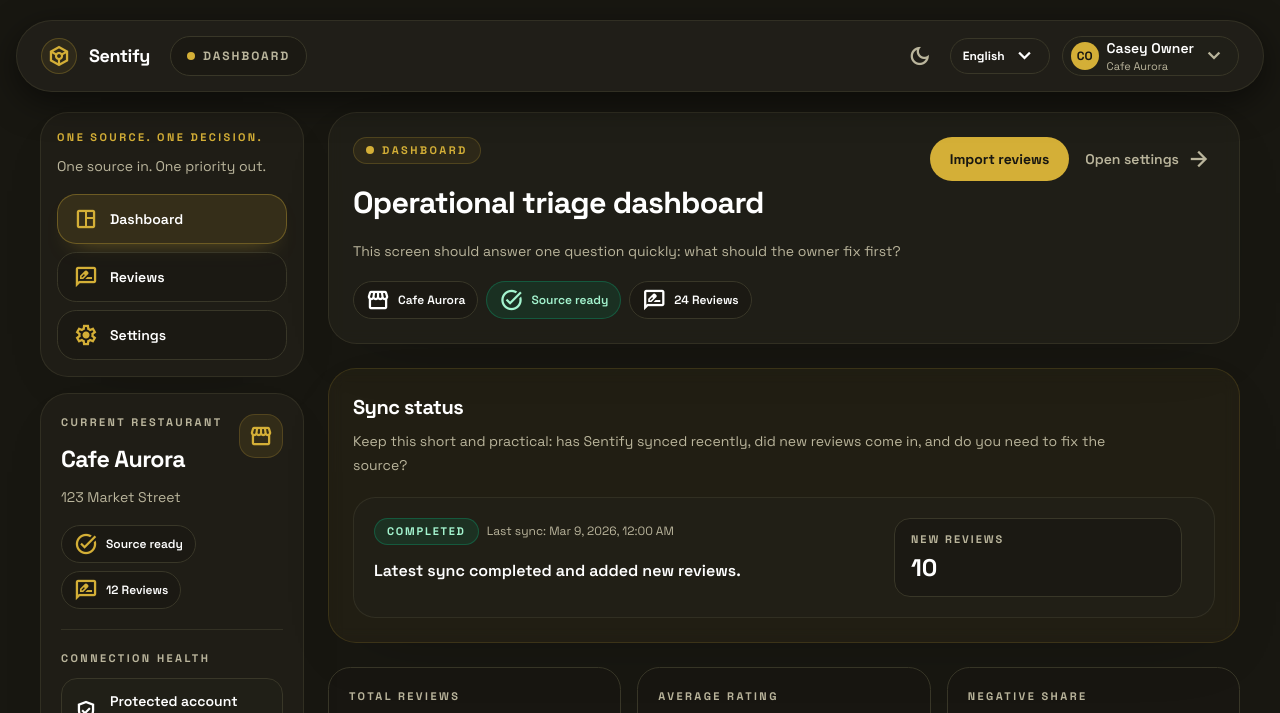
Test case: Sentify app shell › switches language cleanly across English, Vietnamese, and Japanese
The image size is (1280, 713).
Expected: the heading "Operational triage dashboard" is shown, [353,182,764,222]
Click the button with aria-label "switch language". click: (1000, 56)
box: [950,38,1050,74]
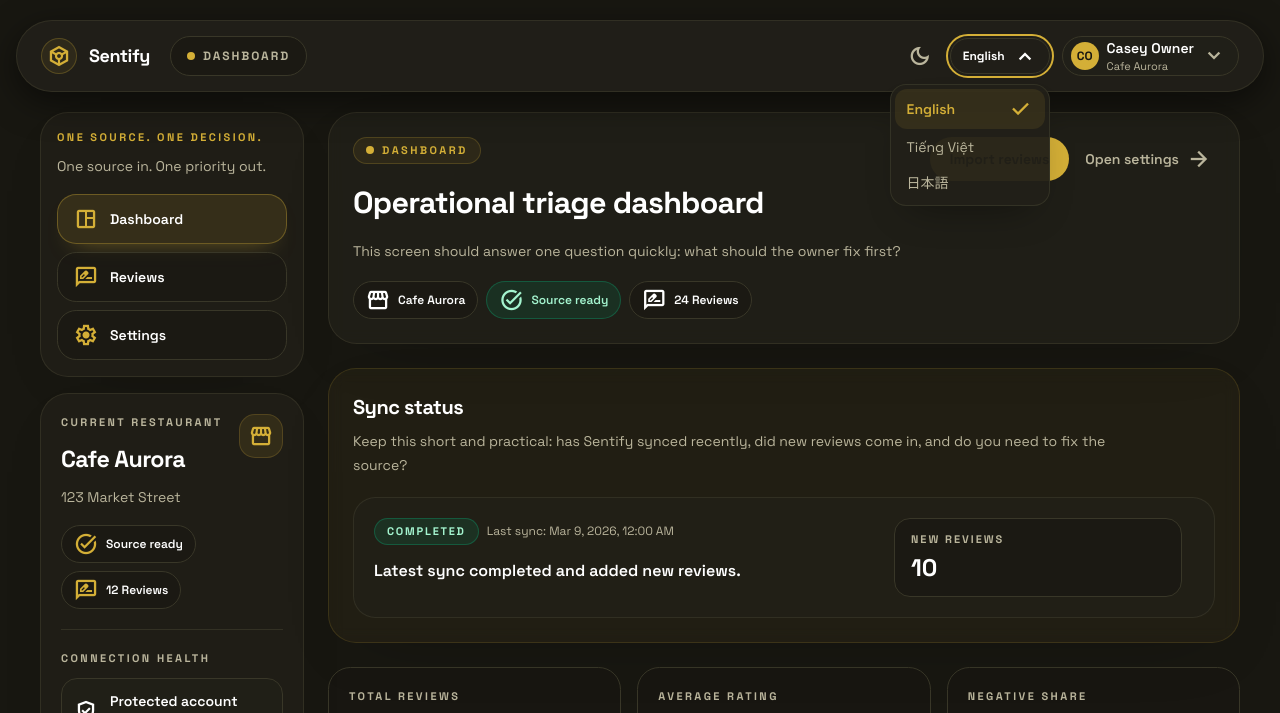
Click the menu item "Tiếng Việt". click: (970, 147)
box: [895,129,1045,165]
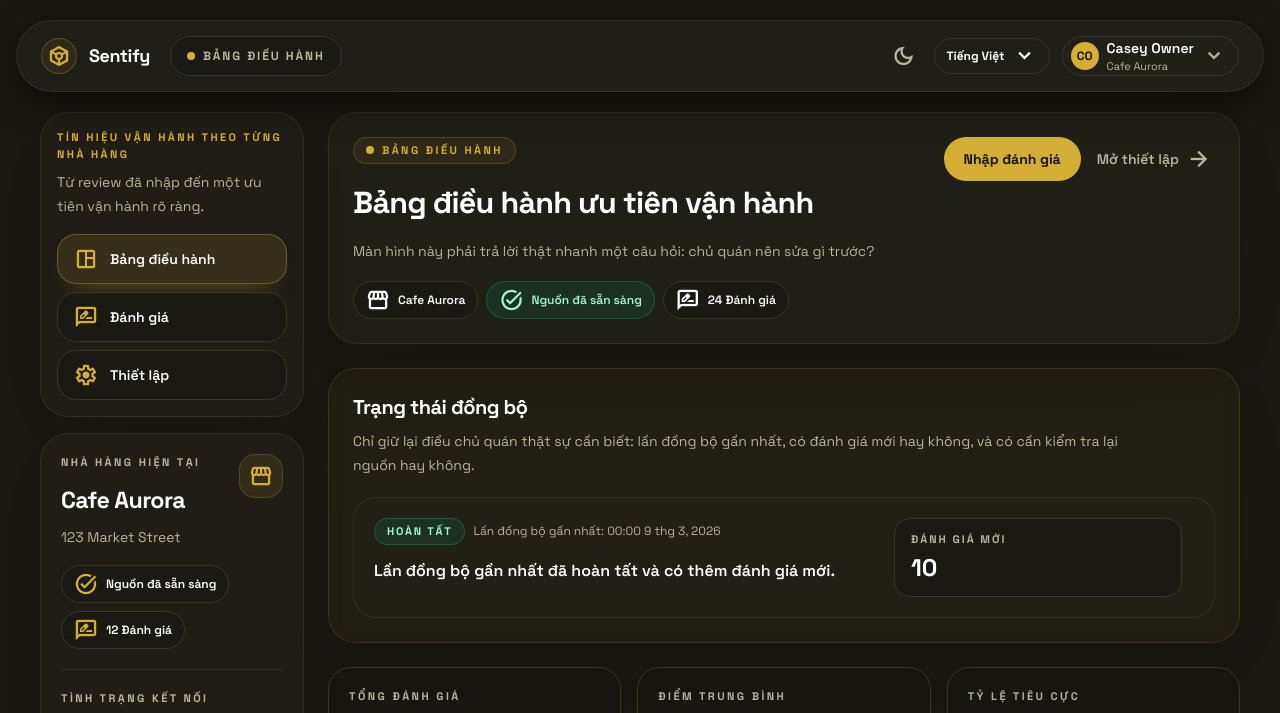
Expected: the heading "Bảng điều hành ưu tiên vận hành" is shown, [353,180,874,225]
Click the button with aria-label "đổi ngôn ngữ". click: (992, 56)
box: [934,38,1050,74]
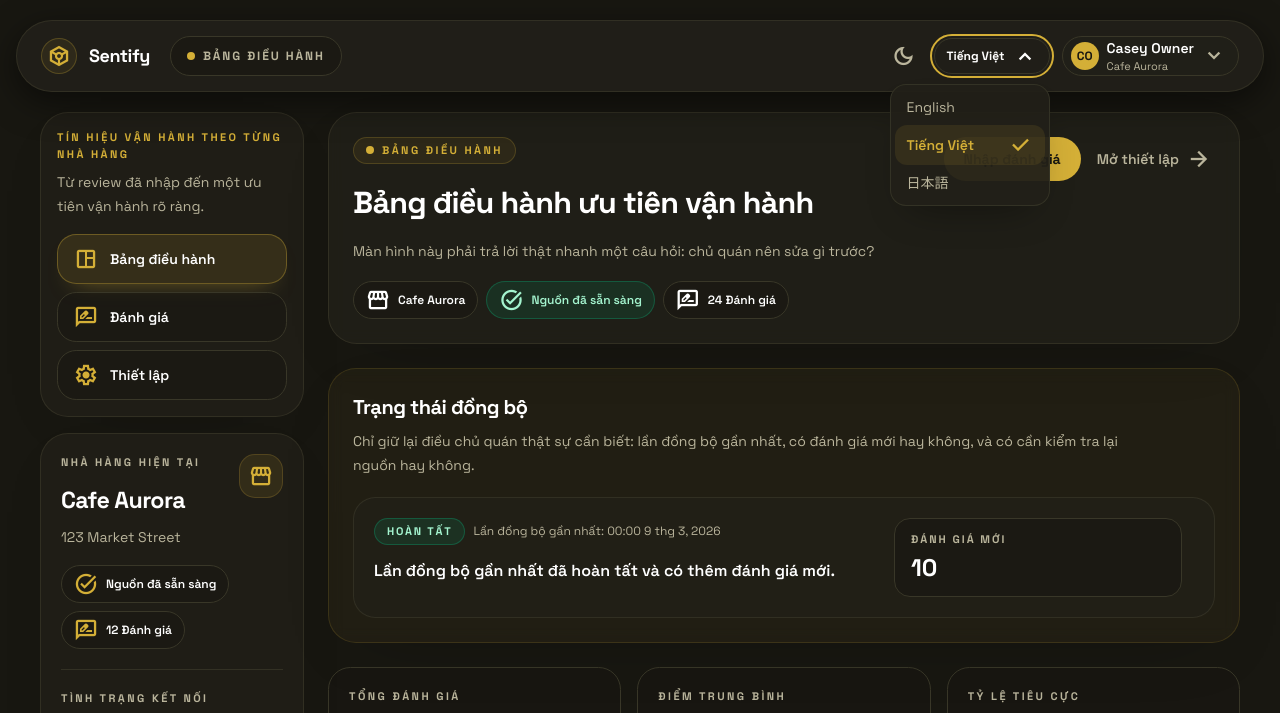
Click the menu item "日本語". click: (970, 183)
box: [895,165,1045,201]
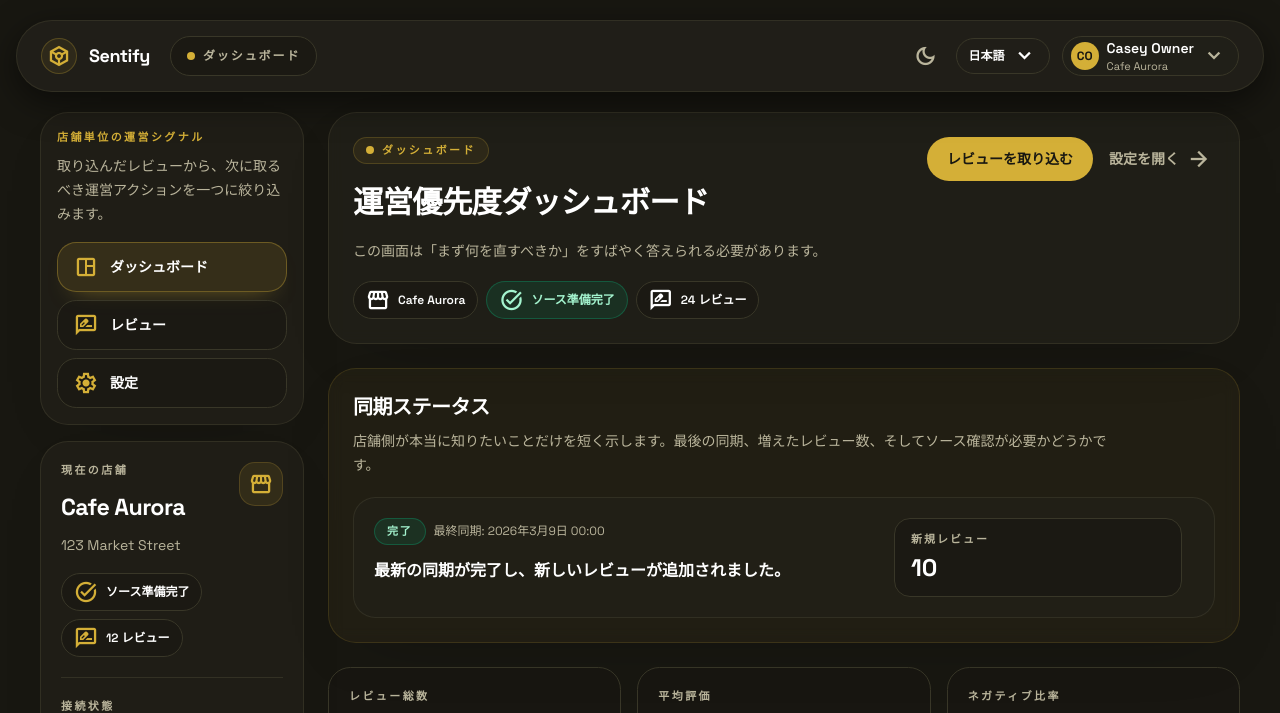
Expected: the heading "運営優先度ダッシュボード" is shown, [353,182,709,222]
